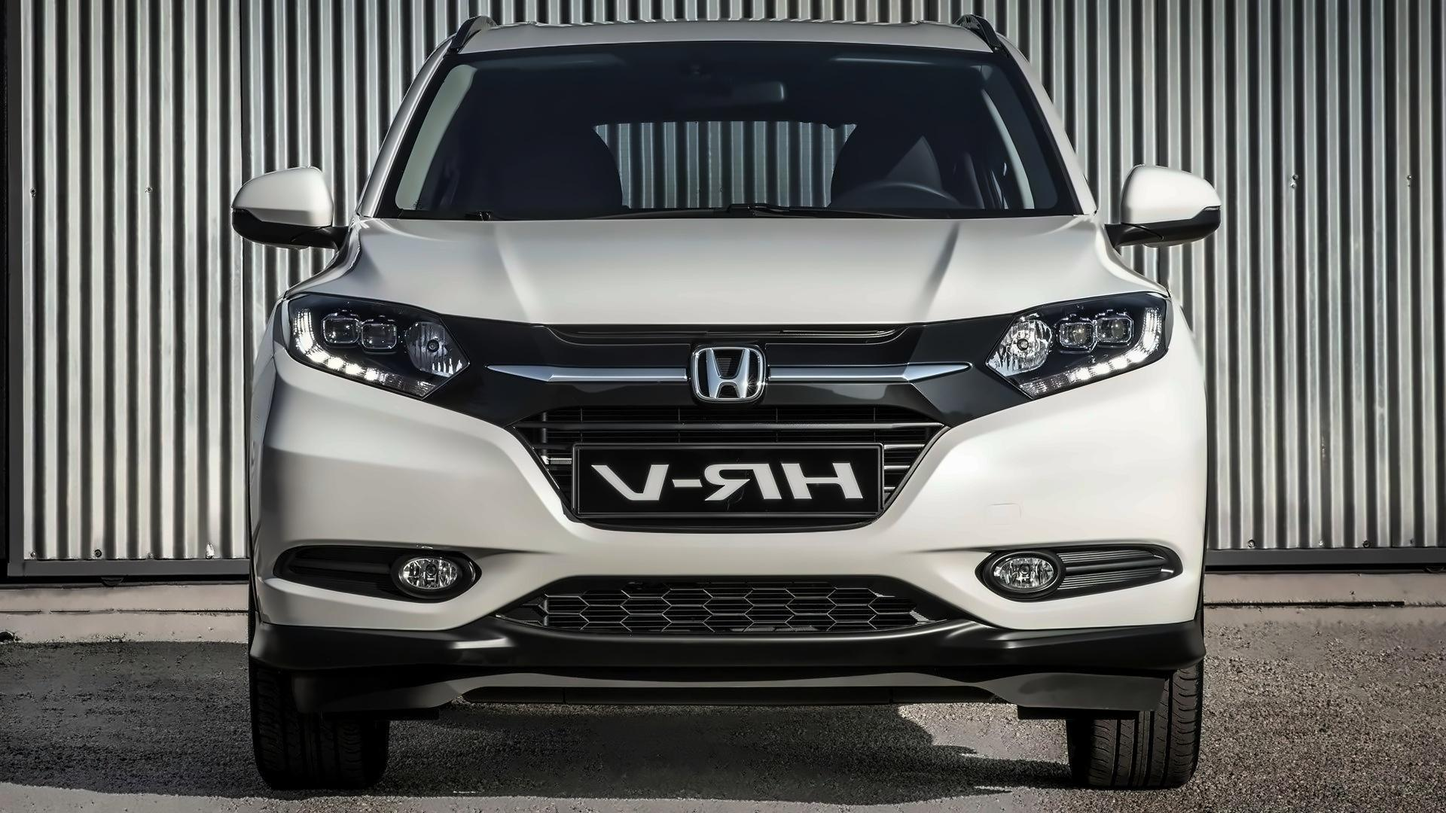Car hood: (289, 201, 1169, 334)
Front bumper: (236, 357, 1223, 713)
Headlight - -L-: (979, 277, 1185, 407)
Headlight - -R-: (259, 276, 494, 409)
Side mirror - -L-: (1097, 143, 1238, 259)
Side mirror - -R-: (226, 146, 354, 259)
